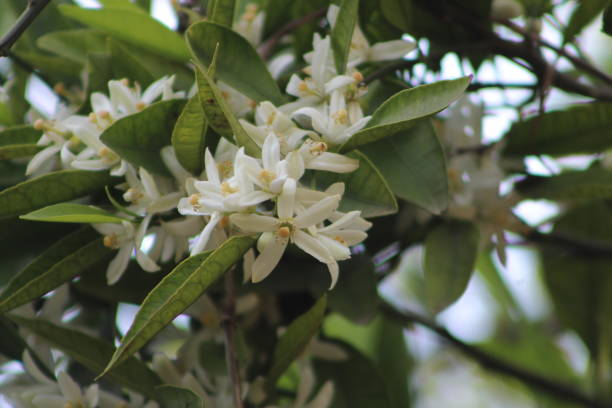flower: (234, 182, 344, 273), (79, 198, 169, 284), (233, 129, 312, 205), (278, 30, 349, 109), (180, 154, 234, 254), (312, 93, 388, 146)
